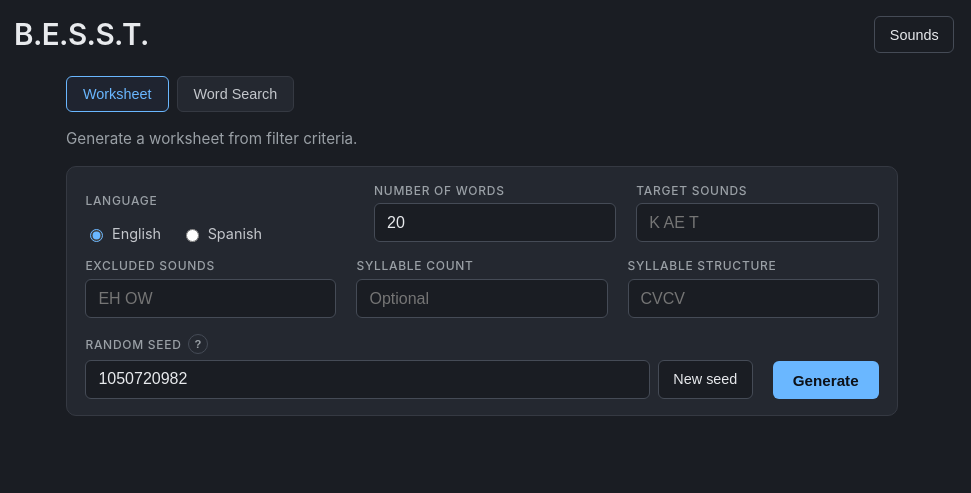
it: simulate user search, display phonetic results successfully
This screenshot has width=971, height=493.
Click the button "Word Search".
click(235, 94)  # box top-left (176, 76), bottom-right (294, 112)
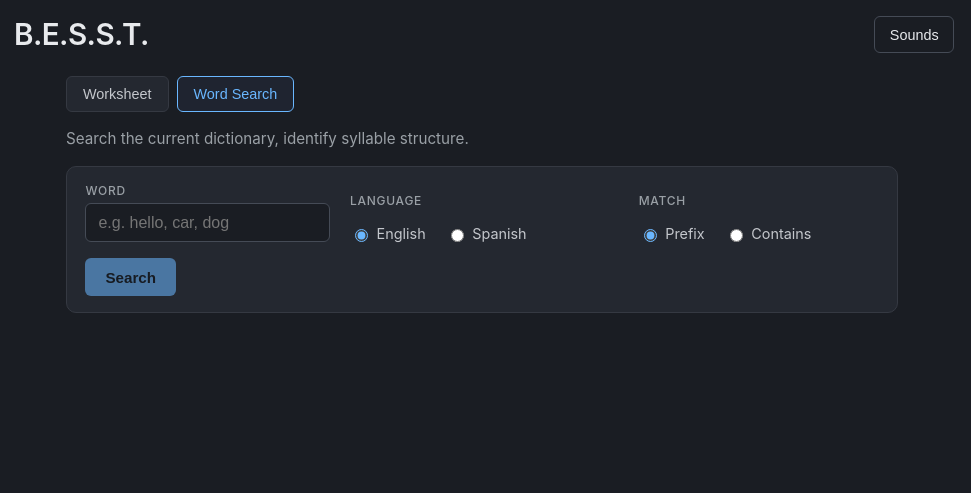
Type "hello" into the search field named "search word".
click(208, 223); type("hello")  # box top-left (85, 203), bottom-right (330, 242)
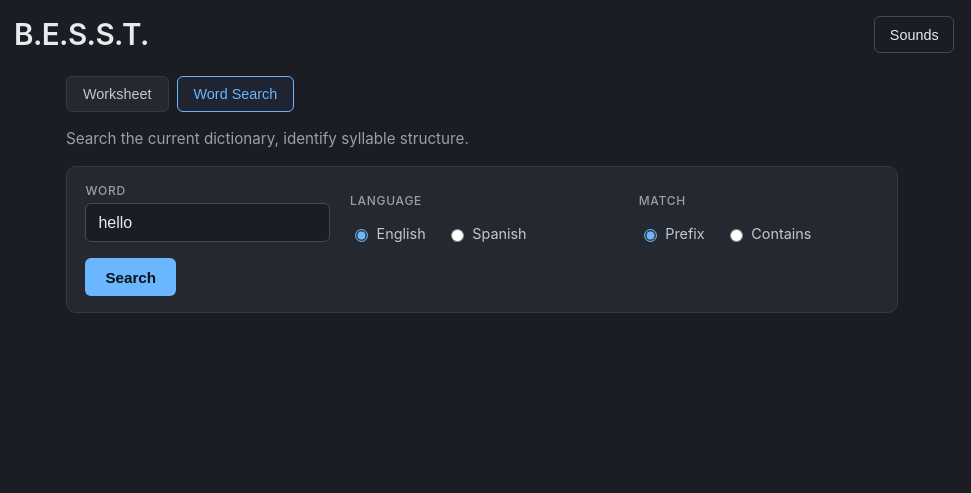
Click the button "Search".
click(131, 277)  # box top-left (85, 258), bottom-right (176, 296)
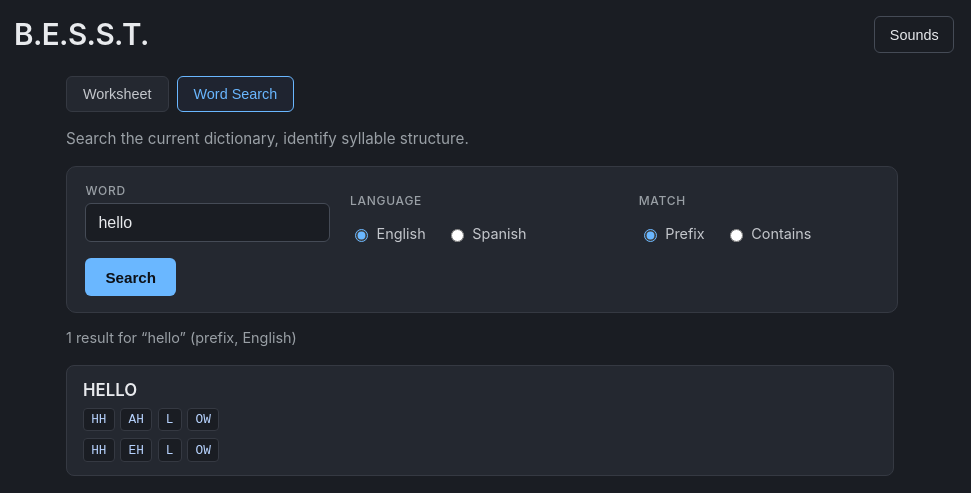
Now the text "HELLO" is shown, box top-left (83, 380), bottom-right (137, 400)
Now the text "HH" is shown 2 times, box top-left (83, 408), bottom-right (115, 431); top-left (83, 438), bottom-right (115, 462)
Now the text "AH" is shown, box top-left (120, 408), bottom-right (152, 431)
